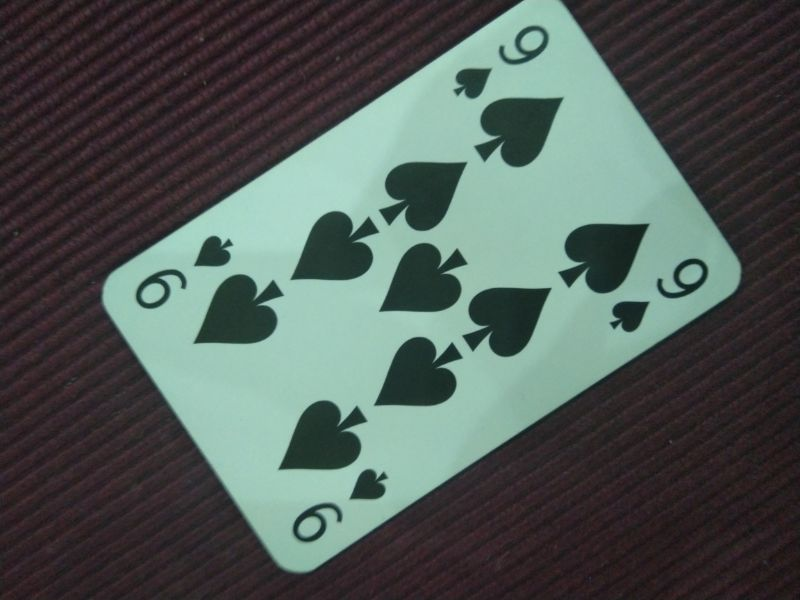9s: (449, 20, 553, 103), (132, 232, 237, 313), (607, 256, 710, 334), (289, 465, 389, 545)
